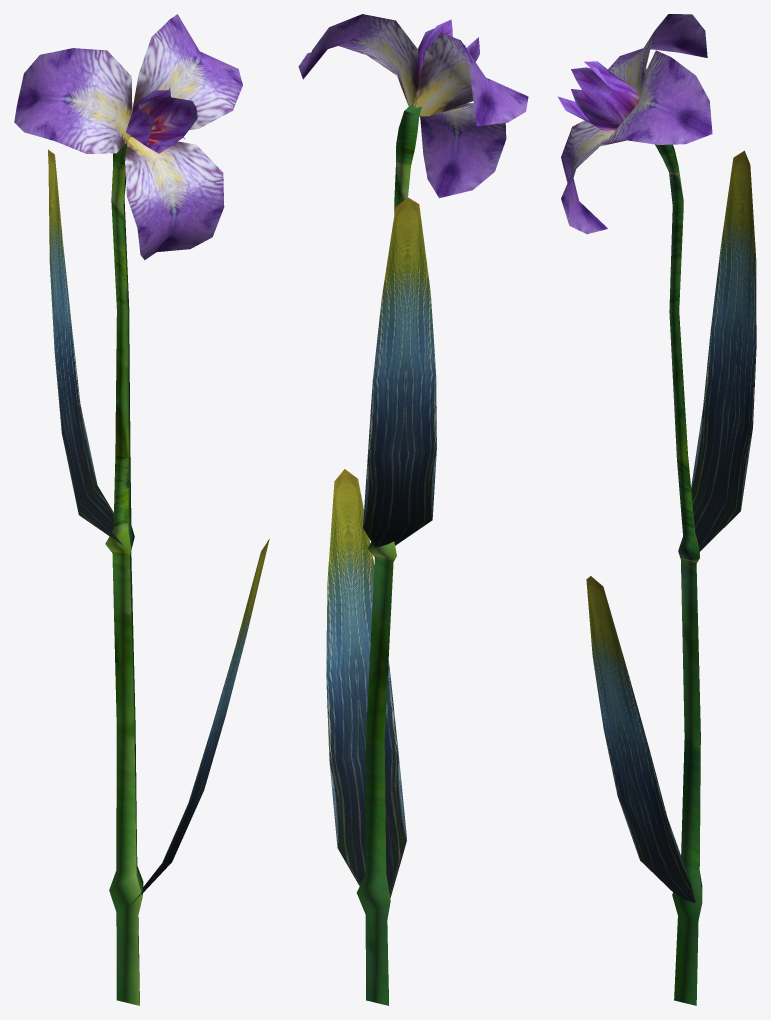
File: Plant_Iris.FBX
3 views of the same model, side by side, from view 1: azimuth 30°, elevation 25°; view 2: azimuth 150°, elevation 25°; view 3: azimuth 270°, elevation 25° (orthographic). The views are drawn at different scales.
Visible parts, largest first — view 1: Iris; view 2: Iris; view 3: Iris.
Part boxes in pixels (x1,y1,x2,y2): Iris: (14, 14, 269, 1005); Iris: (298, 14, 528, 1005); Iris: (557, 14, 756, 1005).
Bounding box in the file's own units: 2.95 × 12.68 × 2.39.
1 material, 1 textured.
